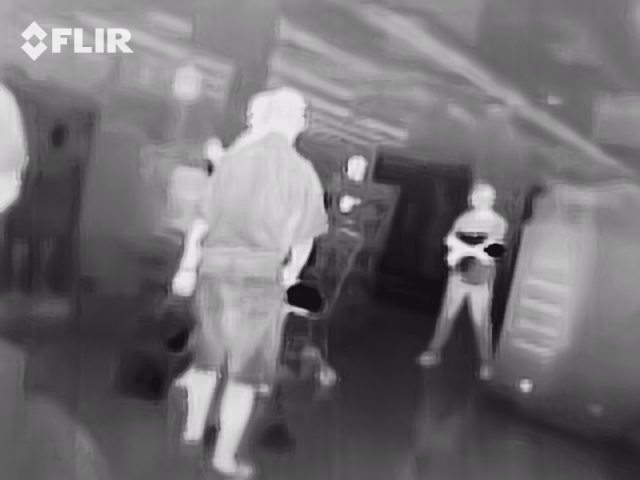head: (264, 87, 306, 138), (469, 182, 496, 214), (246, 92, 264, 133), (347, 154, 367, 183)
